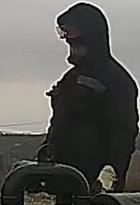gloves: (91, 161, 122, 194)
helmet: (54, 17, 95, 39)
vest: (44, 60, 139, 173)
